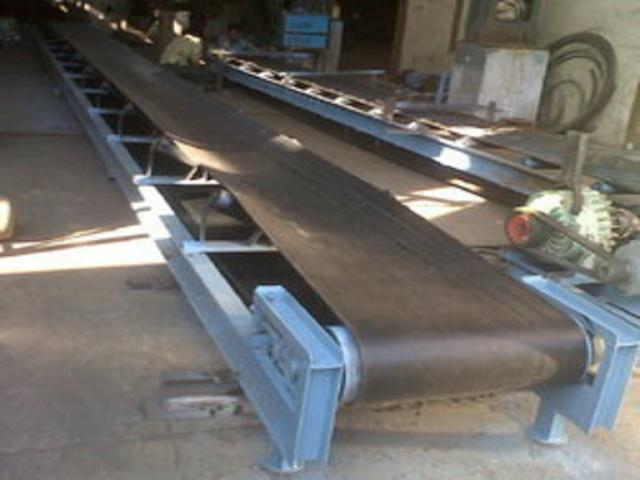conveyor: (29, 9, 631, 473)
